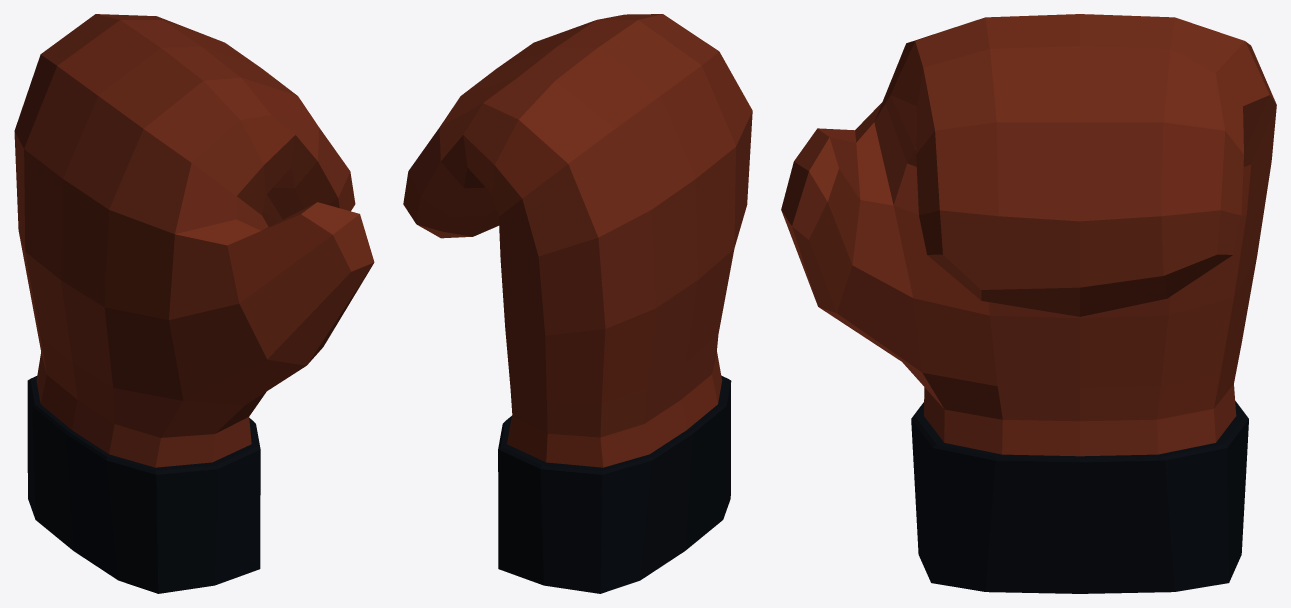
Rendered from glove_left.glb.
3 views of the same model, side by side, from view 1: azimuth 30°, elevation 25°; view 2: azimuth 150°, elevation 25°; view 3: azimuth 270°, elevation 25° (orthographic). The views are drawn at different scales.
Parts seen in each view (by area): view 1: RBoxingGloves1; view 2: RBoxingGloves1; view 3: RBoxingGloves1.
Part boxes in pixels (<box>): RBoxingGloves1: <box>14,14,374,593</box>; RBoxingGloves1: <box>403,14,752,593</box>; RBoxingGloves1: <box>781,14,1276,593</box>.
Size of the model in its own units: 0.1712 by 0.3263 by 0.2665.
